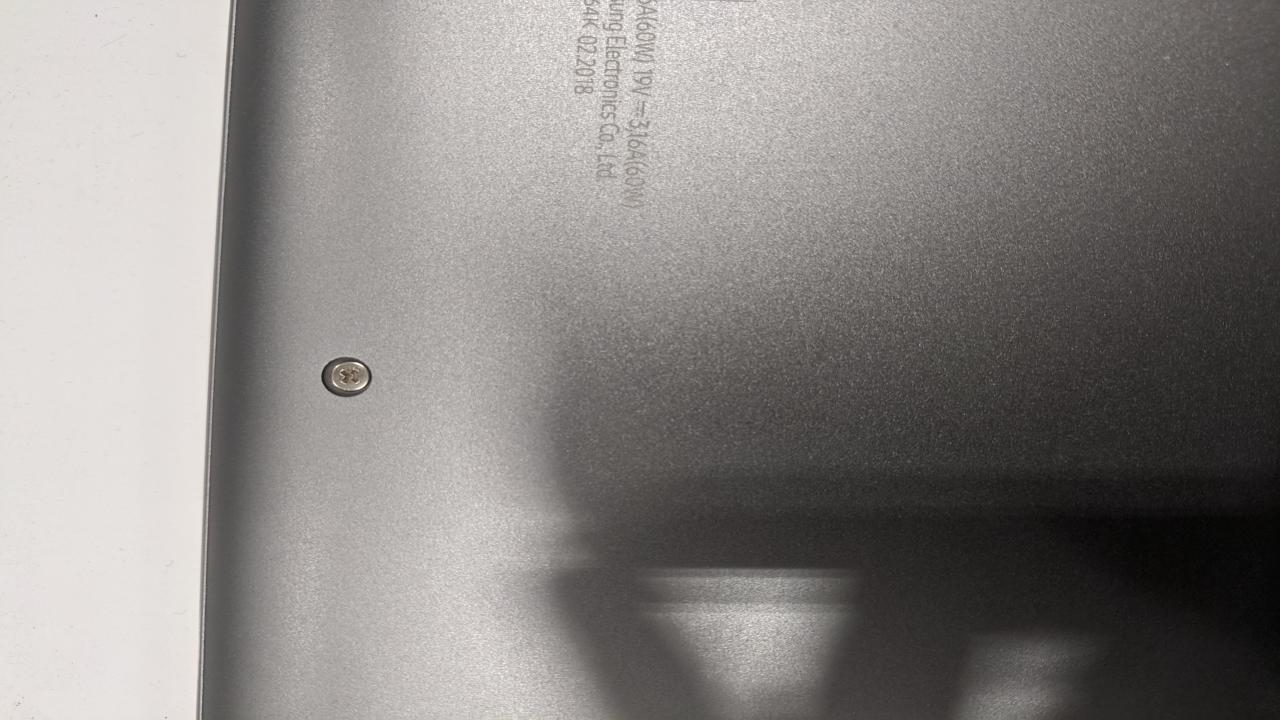CRS: (329, 360, 372, 393)
